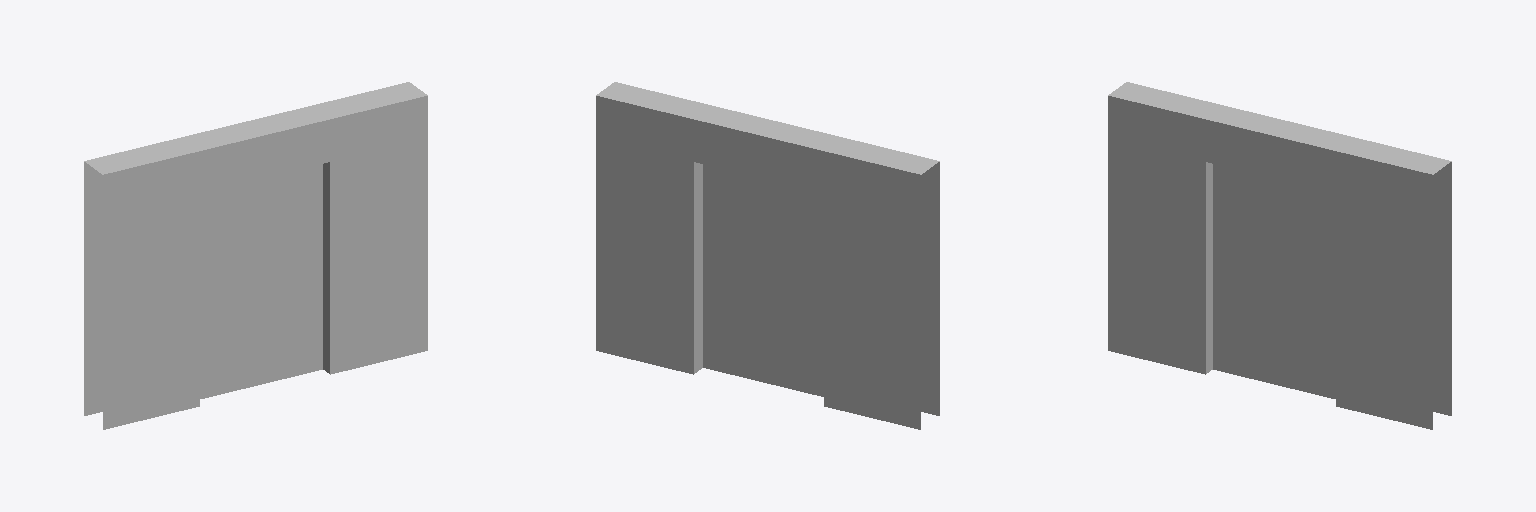
Rendered from doorway_rtx_1_wide.obj.
3 renders of one model, left to right at view 1: azimuth 30°, elevation 25°; view 2: azimuth 150°, elevation 25°; view 3: azimuth 330°, elevation 25°, orthographic.
Visible parts, largest first — view 1: doorway_rtx_1_wide, door_rtx_1_piece_2, door_rtx_1_piece_1; view 2: doorway_rtx_1_wide, door_rtx_1_piece_2, door_rtx_1_piece_1; view 3: doorway_rtx_1_wide, door_rtx_1_piece_2, door_rtx_1_piece_1.
Part boxes in pixels (x1,y1,x2,y2): doorway_rtx_1_wide: (84, 82, 427, 429); door_rtx_1_piece_2: (242, 164, 322, 388); door_rtx_1_piece_1: (200, 184, 241, 398); doorway_rtx_1_wide: (596, 82, 939, 429); door_rtx_1_piece_2: (703, 164, 783, 386); door_rtx_1_piece_1: (784, 184, 823, 396); doorway_rtx_1_wide: (1108, 82, 1451, 429); door_rtx_1_piece_2: (1261, 176, 1335, 398); door_rtx_1_piece_1: (1213, 164, 1260, 380).
Bounding box in the file's own units: 4 × 3 × 0.4.